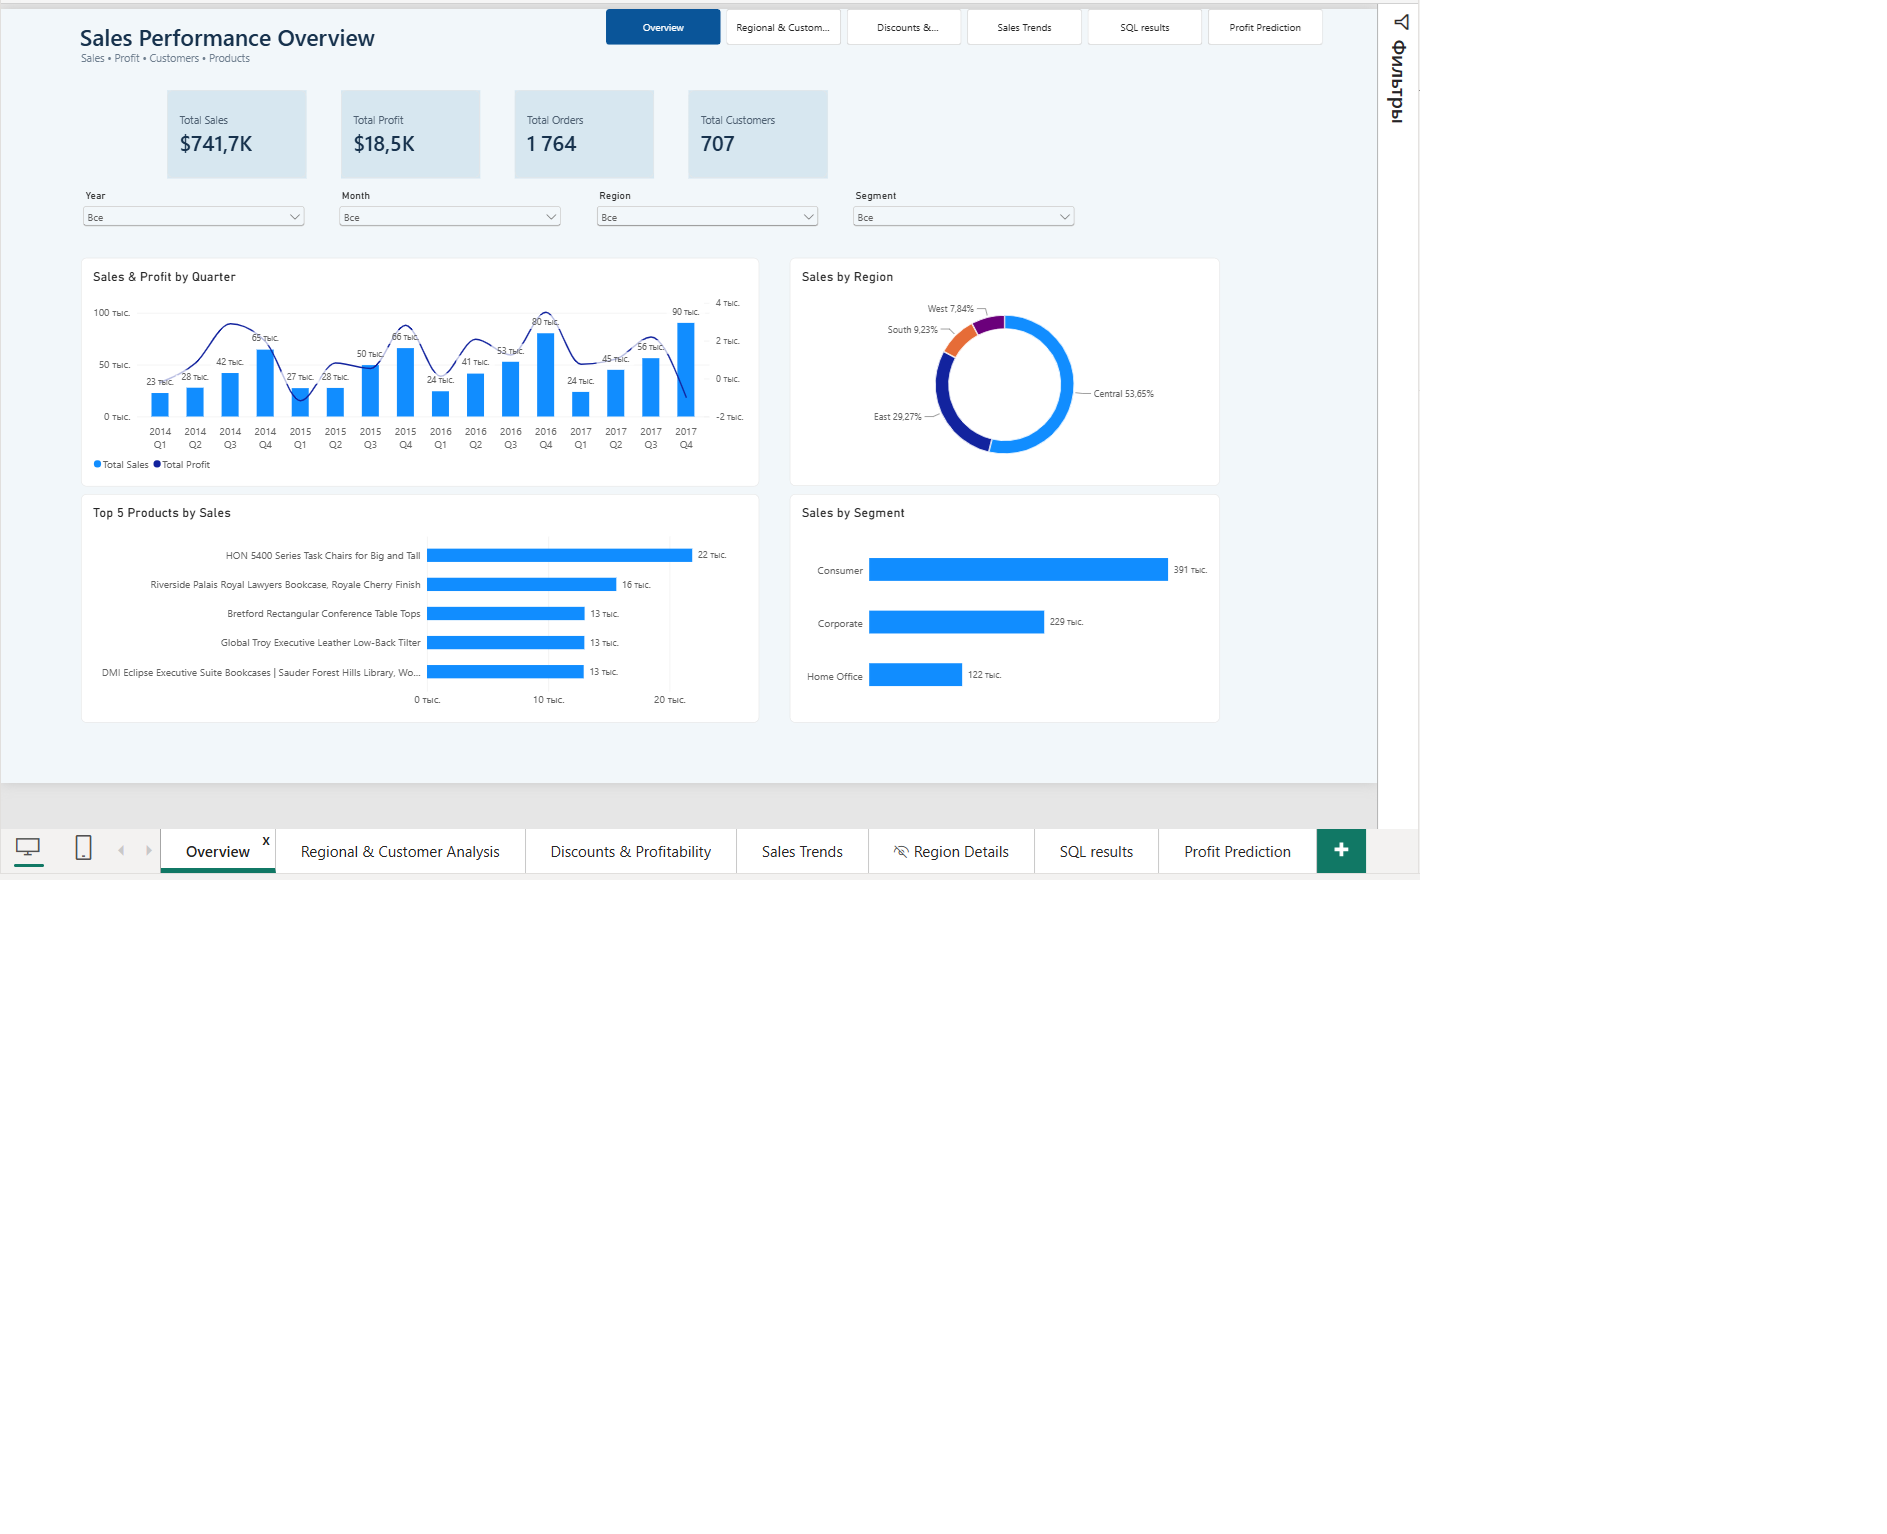

Layout of this report page (visuals, bound fields, positions):
{"tool":"powerbi","page":{"name":"Overview","canvas":[1920,1080],"ordinal":0},"visuals":[{"type":"textbox","box":[110,16.7,436.7,48.3],"z":0},{"type":"textbox","box":[112,58,380,24],"z":1000},{"type":"cardVisual","fields":{"Data":["sales.Total Sales KPI"]},"box":[232.5,114,194.5,123],"z":2000},{"type":"cardVisual","fields":{"Data":["sales.Total Profit KPI"]},"box":[474.7,114,194.5,123],"z":3000},{"type":"cardVisual","fields":{"Data":["sales.Total Orders KPI"]},"box":[716.9,114,194.5,123],"z":4000},{"type":"cardVisual","fields":{"Data":["sales.Total Customers KPI"]},"box":[959.1,114,194.5,123],"z":5000},{"type":"lineClusteredColumnComboChart","title":"Sales & Profit by Quarter","fields":{"Category":["Calendar.Year Quarter"],"Y":["sales.Total Sales"],"Y2":["sales.Total Profit"]},"box":[111.1,347.1,946.4,319.3],"z":6000},{"type":"donutChart","title":"Sales by Region","fields":{"Category":["customers.Region"],"Y":["sales.Total Sales"]},"box":[1101.4,347.1,600,318.6],"z":7000},{"type":"clusteredBarChart","title":"Top 5 Products by Sales","fields":{"Category":["products.Product Name"],"Y":["sales.Total Sales"]},"box":[111,676,946,319],"z":8000},{"type":"clusteredBarChart","title":"Sales by Segment","fields":{"Category":["customers.Segment"],"Y":["sales.Total Sales"]},"box":[1101,676,600,319],"z":9000},{"type":"slicer","fields":{"Values":["Calendar.Year"]},"box":[110,252,318.3,76.7],"z":10000},{"type":"slicer","fields":{"Values":["customers.Region"]},"box":[826,252,318.3,76.7],"z":11000},{"type":"slicer","fields":{"Values":["customers.Segment"]},"box":[1184,252,318.3,76.7],"z":12000},{"type":"slicer","fields":{"Values":["Calendar.Month"]},"box":[468,252,318.3,76.7],"z":13000},{"type":"pageNavigator","box":[844,0,1000,50],"z":14000}]}

Visuals, with their boxes on the page's 1920x1080 design canvas (x1, y1, x2, y2). These are canvas units, not pixel positions in the 1887x1534 screenshot, which may show the page scaled, cropped or inside an application window:
textbox: 110:17:547:65
textbox: 112:58:492:82
cardVisual - sales.Total Sales KPI: 232:114:427:237
cardVisual - sales.Total Profit KPI: 475:114:669:237
cardVisual - sales.Total Orders KPI: 717:114:911:237
cardVisual - sales.Total Customers KPI: 959:114:1154:237
"Sales & Profit by Quarter" lineClusteredColumnComboChart: 111:347:1058:666
"Sales by Region" donutChart: 1101:347:1701:666
"Top 5 Products by Sales" clusteredBarChart: 111:676:1057:995
"Sales by Segment" clusteredBarChart: 1101:676:1701:995
slicer - Calendar.Year: 110:252:428:329
slicer - customers.Region: 826:252:1144:329
slicer - customers.Segment: 1184:252:1502:329
slicer - Calendar.Month: 468:252:786:329
pageNavigator: 844:0:1844:50
